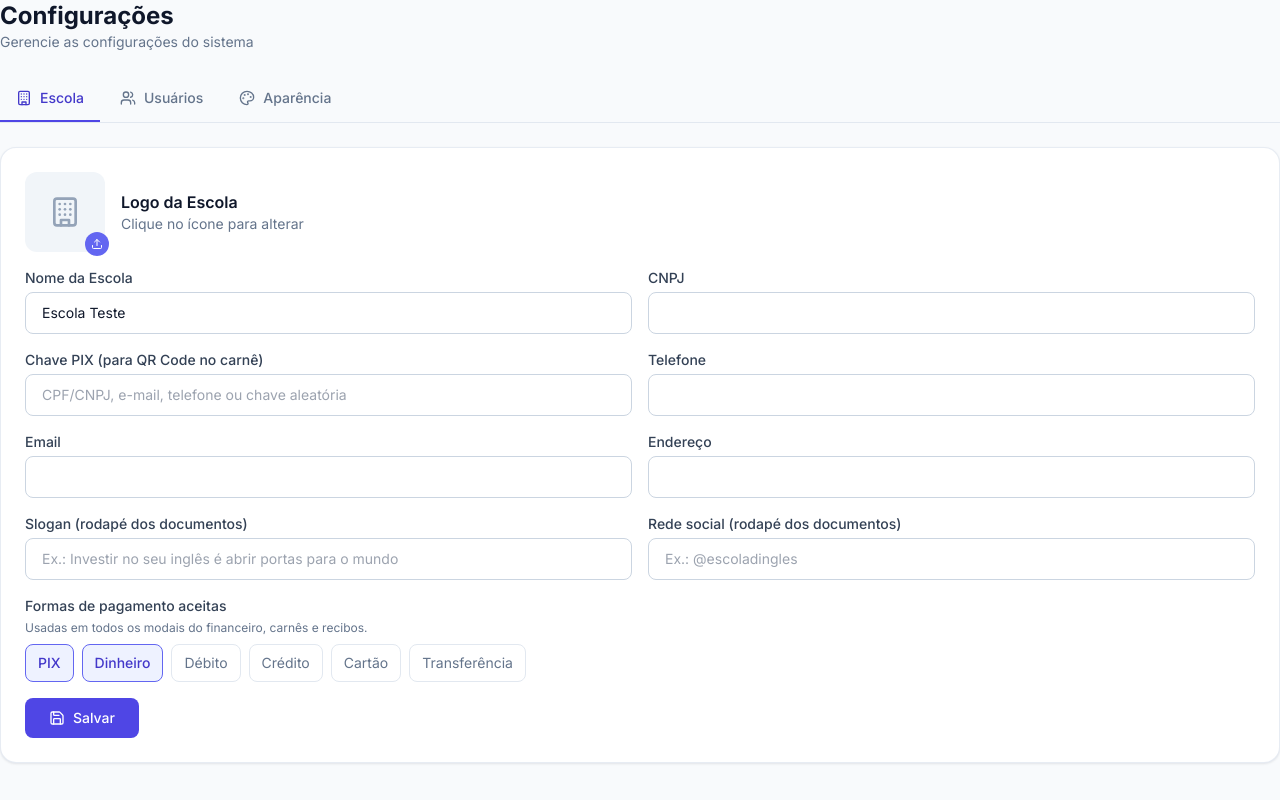
Test case: Settings › formulario de novo usuario mostra checkbox de Auditoria e Configuracoes (T-02.02, D-04)
Click the button "Usuários". click: coordinates (162, 99)
box: top-left (104, 76), bottom-right (219, 122)
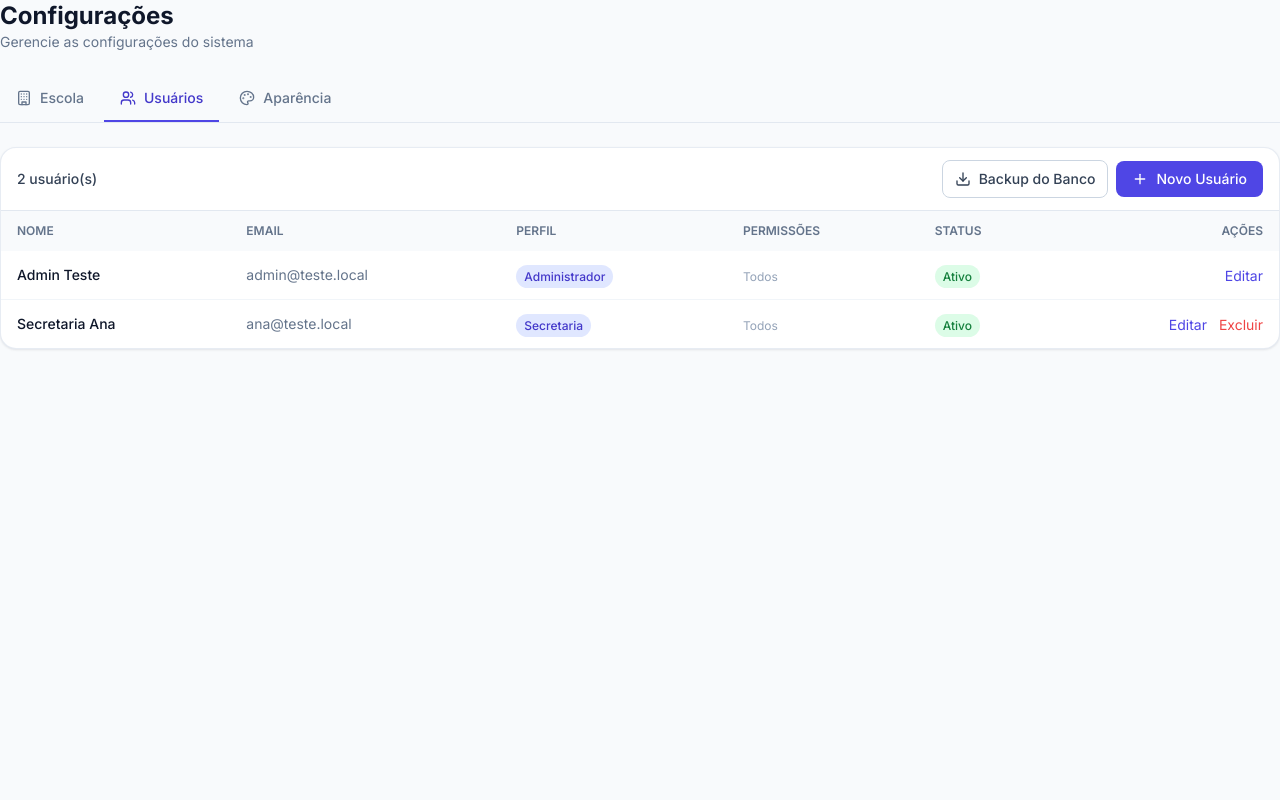
Result: the text "Secretaria Ana" is shown at top-left (1, 300), bottom-right (230, 348)
Click the button "Novo Usuário". click: coordinates (1190, 179)
box: top-left (1116, 161), bottom-right (1263, 197)
(page scrolled)
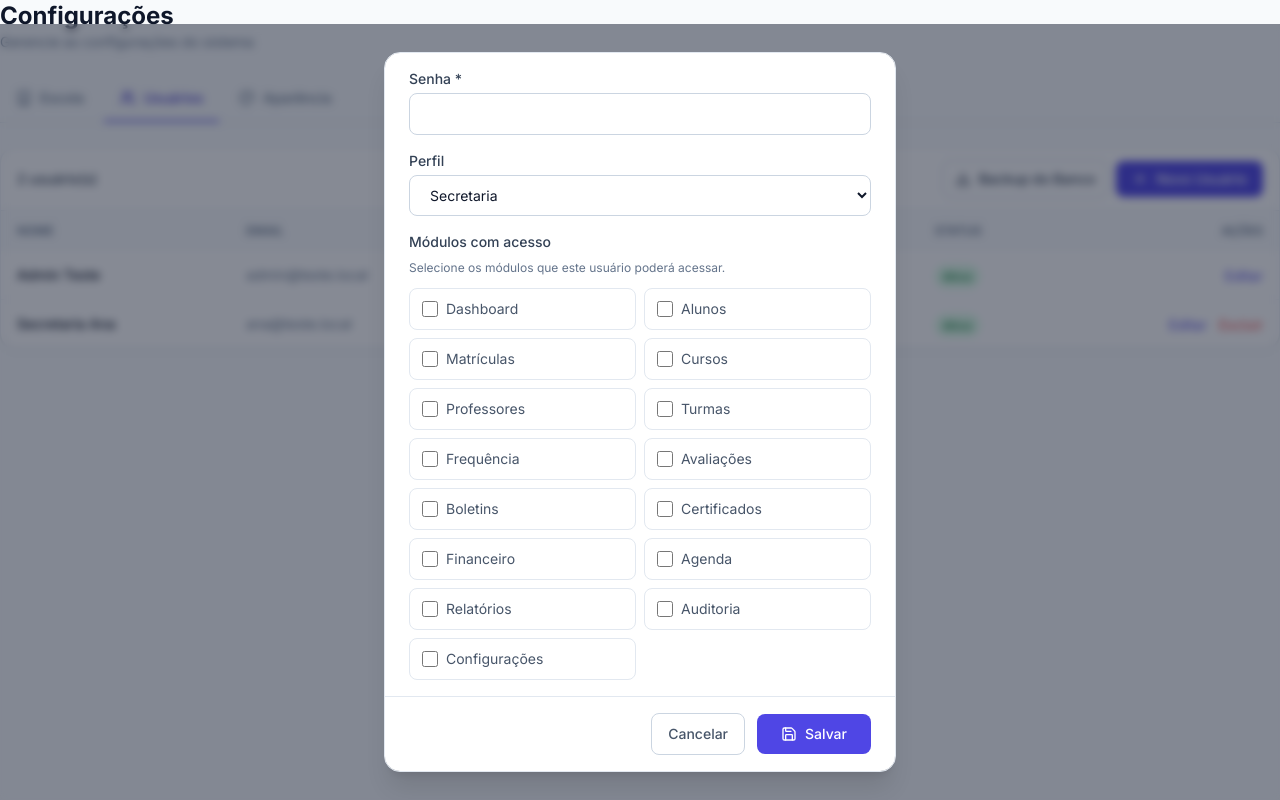
Result: the text "Auditoria" is shown at top-left (644, 588), bottom-right (871, 630)
